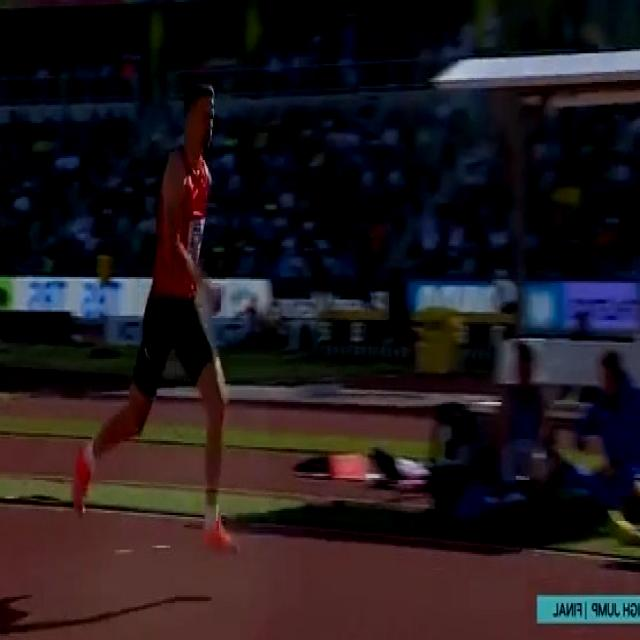run: (75, 87, 251, 565)
